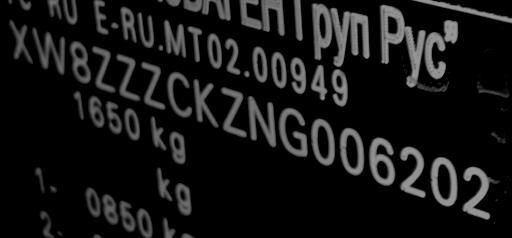letter: (27, 23, 67, 78), (458, 162, 492, 219), (245, 90, 279, 146), (275, 103, 309, 159), (218, 82, 250, 138), (397, 142, 429, 197), (136, 58, 168, 113), (190, 72, 220, 130), (306, 115, 338, 169), (162, 68, 194, 122), (366, 134, 398, 187), (2, 16, 36, 65), (428, 152, 458, 207), (336, 124, 366, 177), (88, 41, 118, 94), (112, 50, 142, 103), (66, 37, 94, 86)
